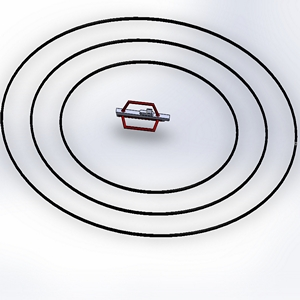circle: (1, 13, 300, 241)
submarine: (98, 90, 178, 144)
